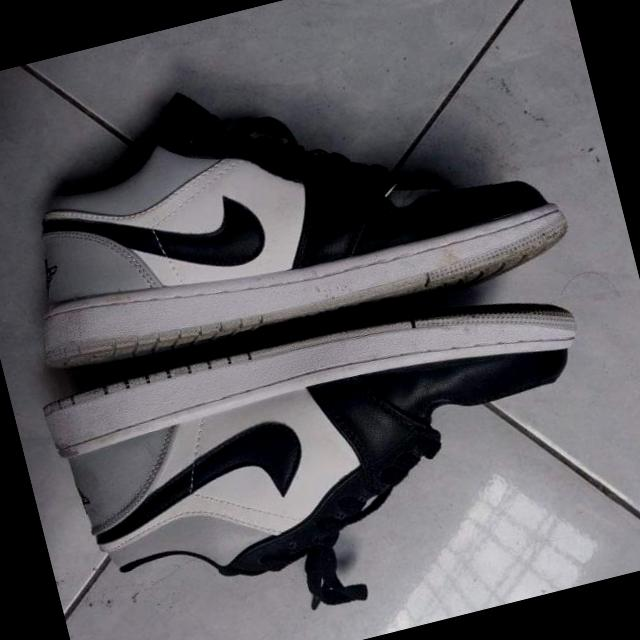nike_fake_jordan: (0, 5, 577, 389), (36, 264, 619, 620)
